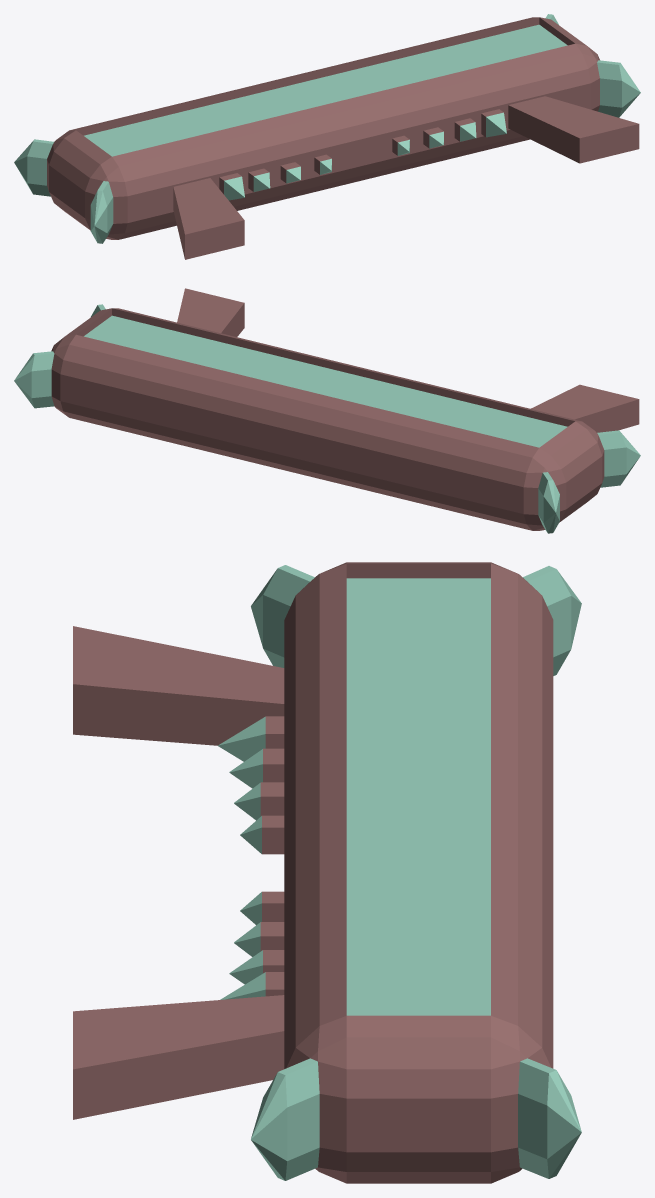
Rendered from BigWall.fbx.
3 views of the same model, one above another, from view 1: azimuth 30°, elevation 25°; view 2: azimuth 150°, elevation 25°; view 3: azimuth 270°, elevation 25° (orthographic). The views are drawn at different scales.
Visible parts, largest first — view 1: Куб; view 2: Куб; view 3: Куб.
Boxes of the visible parts, x1,y1,x2,y2 form: Куб: (14, 14, 640, 259); Куб: (14, 288, 640, 533); Куб: (73, 562, 581, 1183).
Bounding box in the file's own units: 1281 × 187 × 516.
